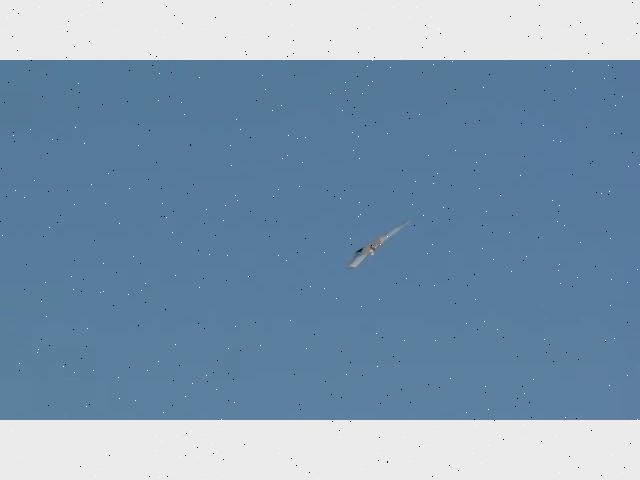Anti-Drone: (346, 220, 410, 270)
